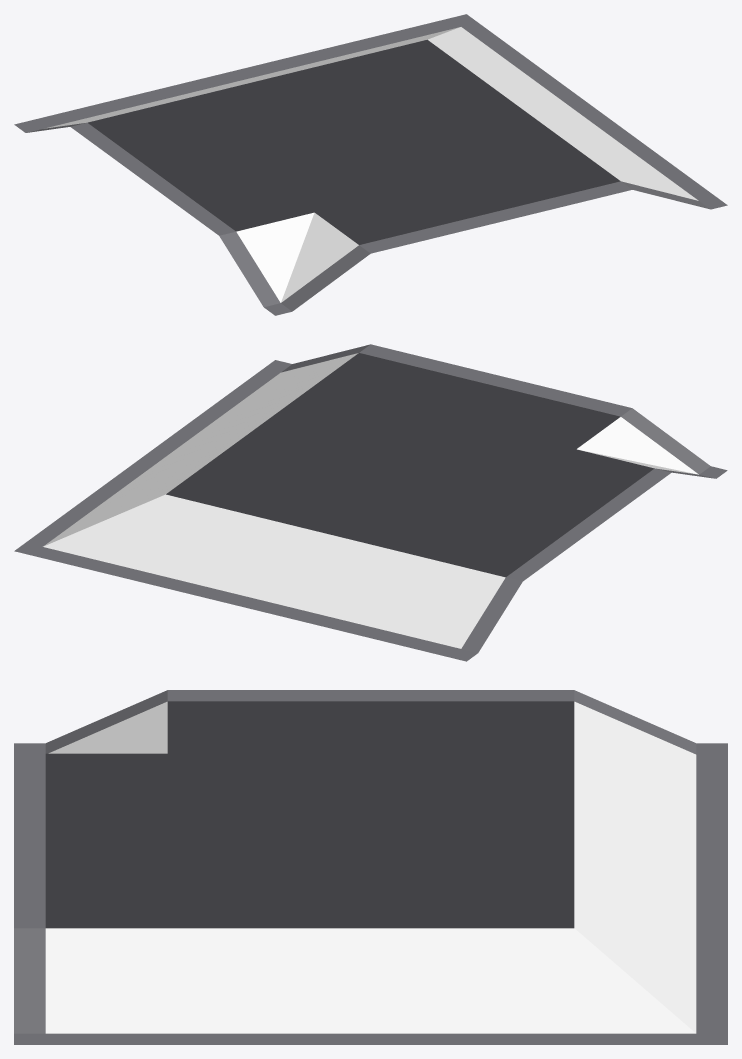
File: Ceiling Corner.fbx
3 renders of one model, top to bottom at view 1: azimuth 30°, elevation 25°; view 2: azimuth 150°, elevation 25°; view 3: azimuth 270°, elevation 25°, orthographic. The views are drawn at different scales.
Visible parts, largest first — view 1: Ceiling Corner; view 2: Ceiling Corner; view 3: Ceiling Corner.
Part boxes in pixels (x1,y1,x2,y2): Ceiling Corner: (14, 14, 727, 315); Ceiling Corner: (14, 344, 727, 661); Ceiling Corner: (14, 690, 727, 1044).
Bounding box in the file's own units: 200 × 16.42 × 200.
